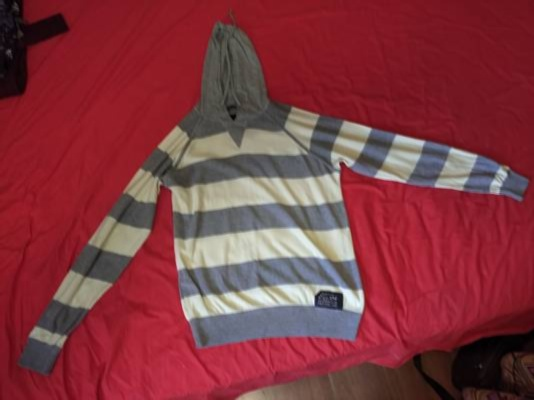Hoodie: (34, 26, 516, 373)
